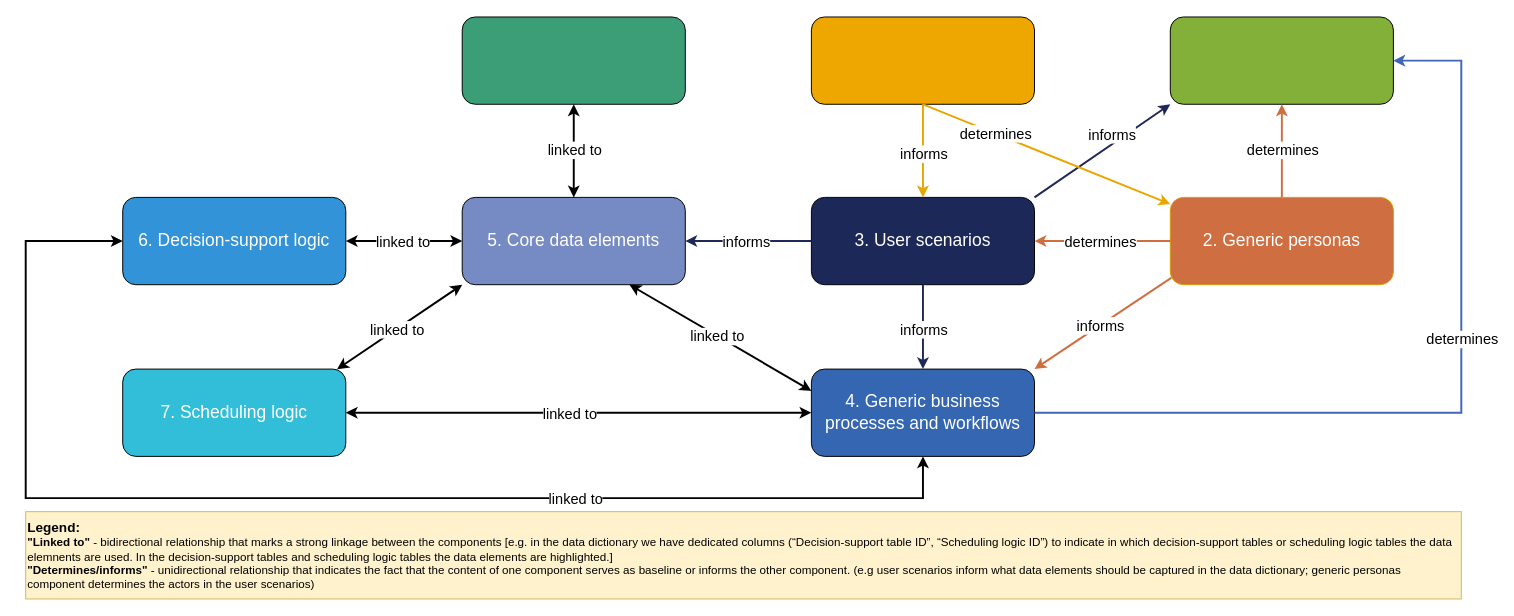
This 1514x616 diagram has some shape labels left out. The centre of each missing label's shape, as x and y in pixels:
"1. Health interventions and recommendations" goes at pixel 922 60.
"8. Indicators and performance metrics" goes at pixel 573 60.
"9. High-level functional and non-functional requirements" goes at pixel 1281 60.
